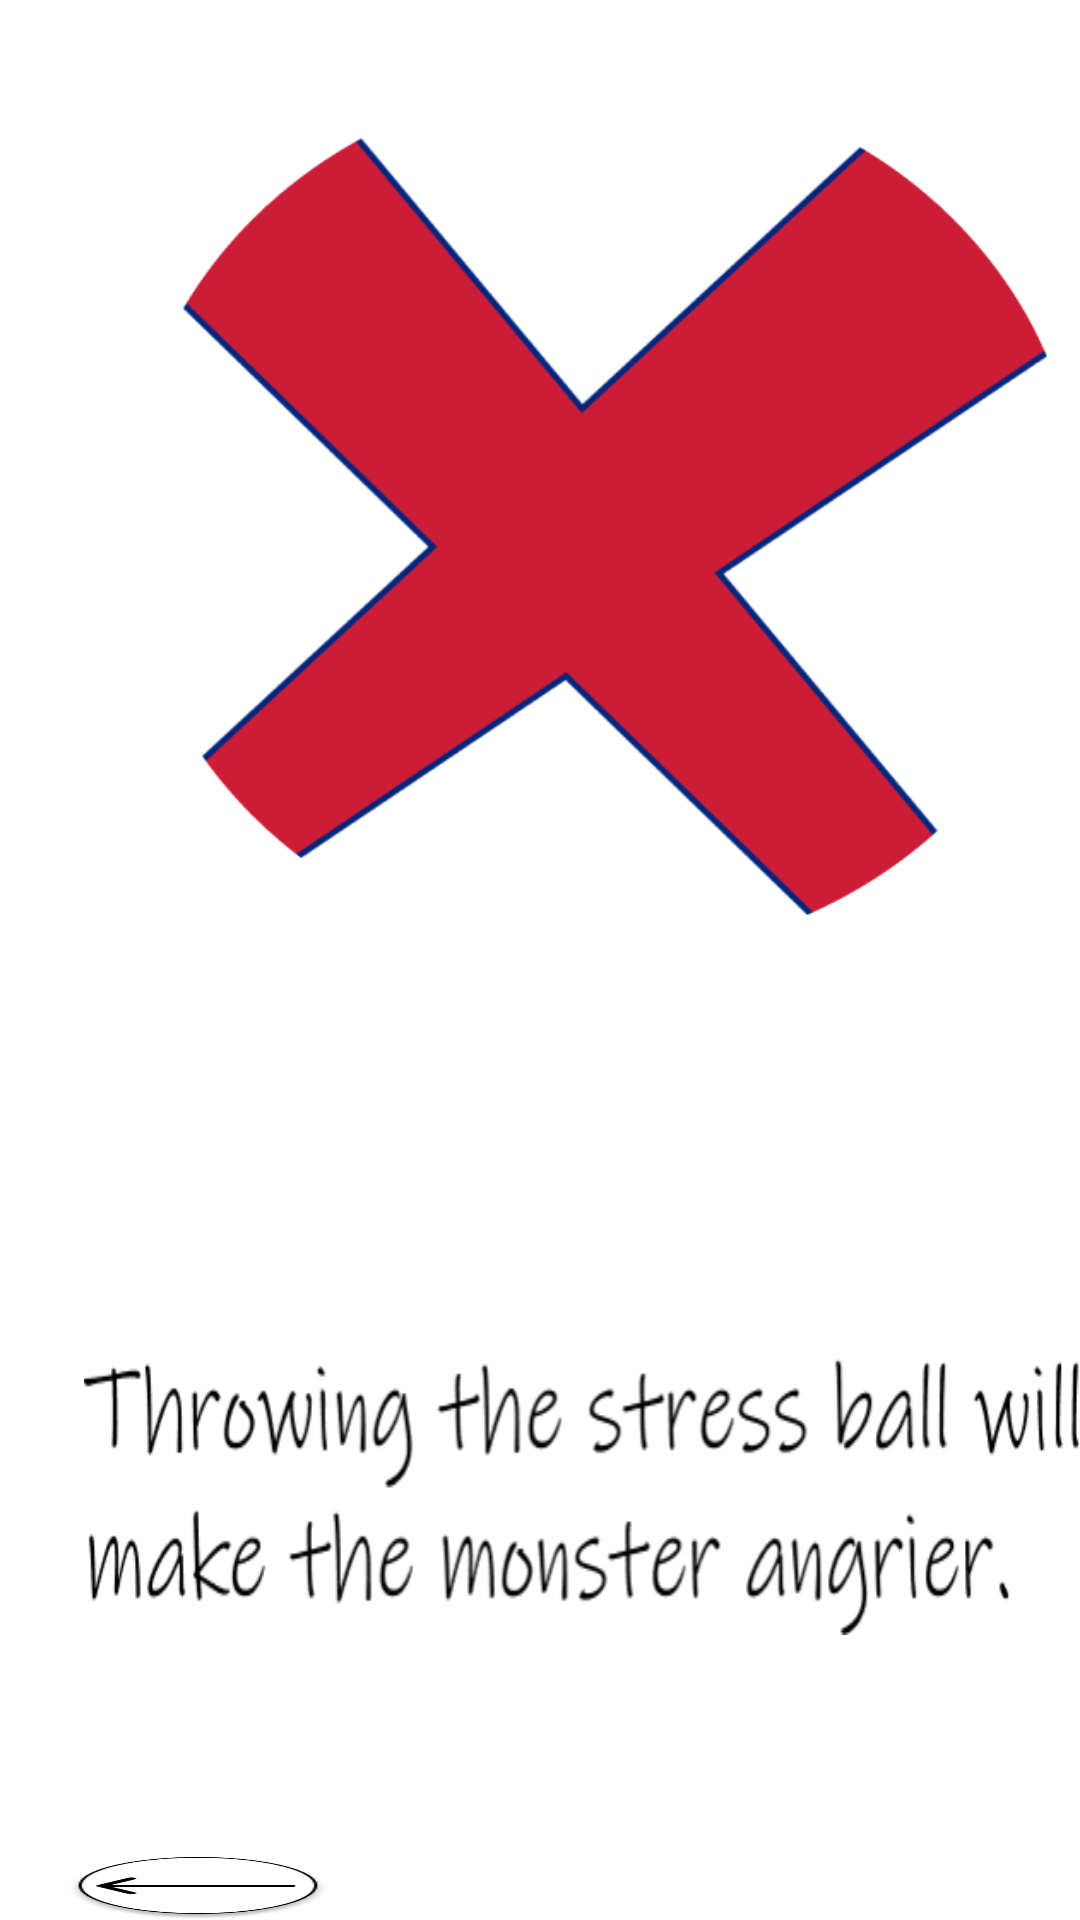

Icon bounding boxes for this 1080 x 1920 phone screenshot, format (x1, y1, x2, y2):
backarrow: (77, 1857, 319, 1917)
